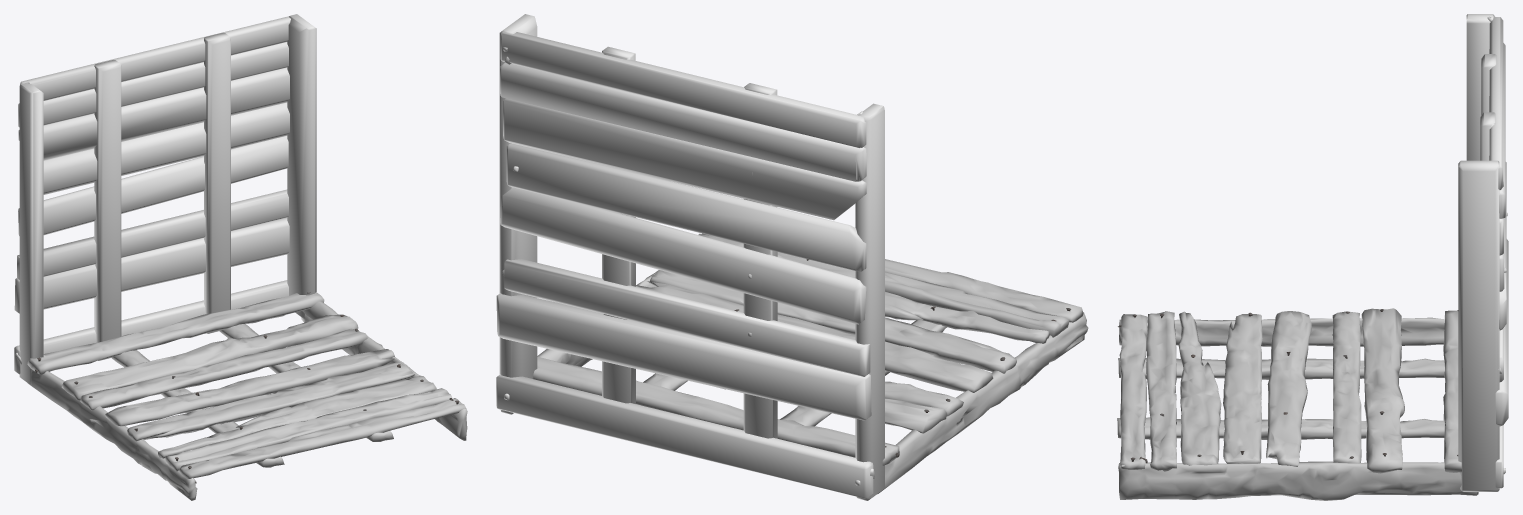
The model's file is SM_WoodenFloor_A.fbx.
3 views of the same model, side by side, from view 1: azimuth 30°, elevation 25°; view 2: azimuth 150°, elevation 25°; view 3: azimuth 270°, elevation 25° (orthographic). The views are drawn at different scales.
Parts seen in each view (by area): view 1: SM_WoodenFloor_A_ConvexHulls, SM_WoodenFloor_A; view 2: SM_WoodenFloor_A_ConvexHulls, SM_WoodenFloor_A; view 3: SM_WoodenFloor_A, SM_WoodenFloor_A_ConvexHulls.
Part boxes in pixels (x1,y1,x2,y2): SM_WoodenFloor_A_ConvexHulls: (14,14,316,384); SM_WoodenFloor_A: (27,292,467,500); SM_WoodenFloor_A_ConvexHulls: (496,14,884,500); SM_WoodenFloor_A: (533,233,1088,493); SM_WoodenFloor_A: (1117,308,1478,500); SM_WoodenFloor_A_ConvexHulls: (1458,14,1508,491).
Size of the model in its own units: 3.08 by 3.11 by 3.27.
